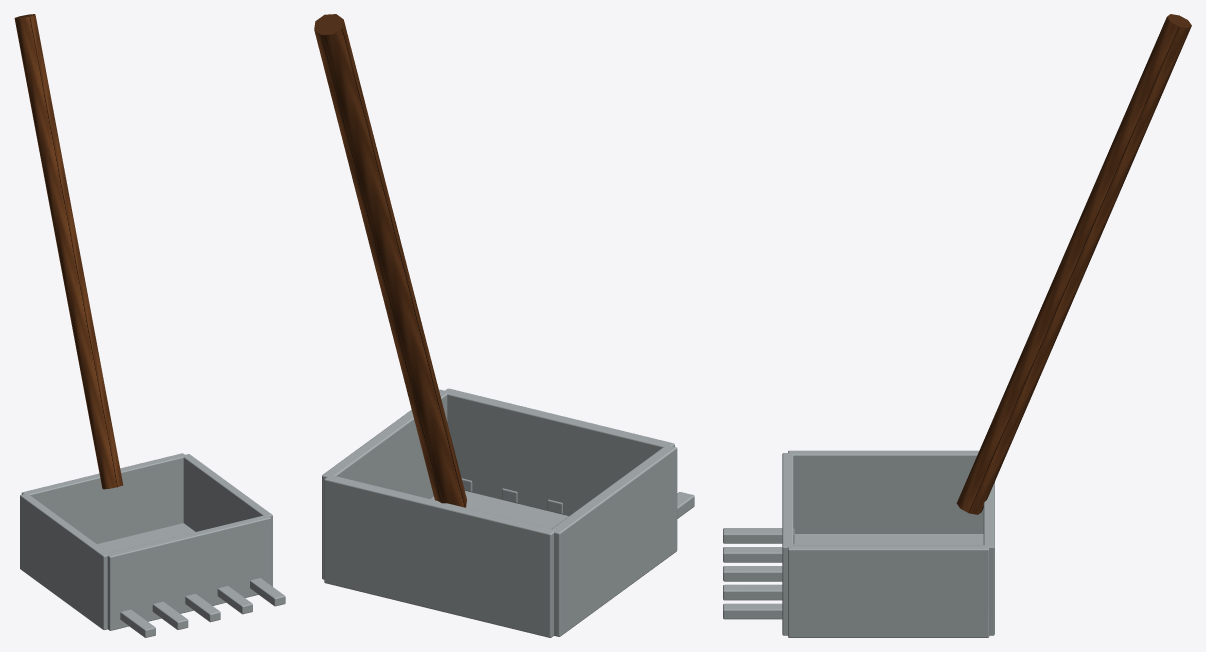
Rendered from flooded-and-coastal-survival-dredge-scoop-c89d9af1__20082.glb.
3 renders of one model, left to right at view 1: azimuth 30°, elevation 25°; view 2: azimuth 150°, elevation 25°; view 3: azimuth 270°, elevation 25°, orthographic. The views are drawn at different scales.
Visible parts, largest first — view 1: dredge-scoop; view 2: dredge-scoop; view 3: dredge-scoop.
Boxes of the visible parts, box(x1,y1,x2,y2) form: dredge-scoop: box(14, 14, 285, 637); dredge-scoop: box(314, 14, 694, 637); dredge-scoop: box(723, 14, 1191, 637).
Size of the model in its own units: 0.525 by 1.41 by 1.05.
2 materials, 1 textured.
